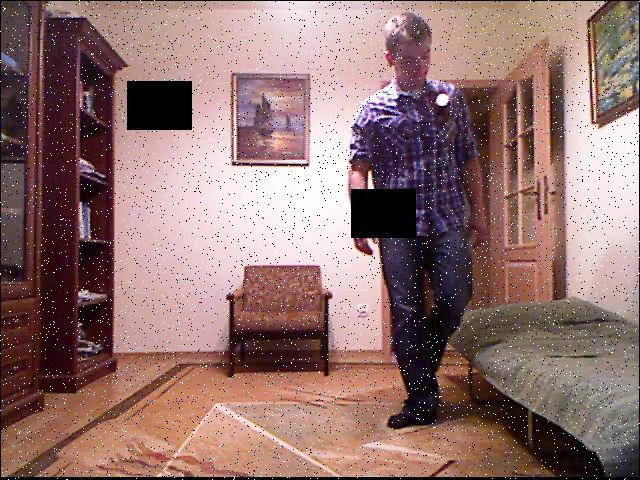walking: (341, 14, 481, 431)
